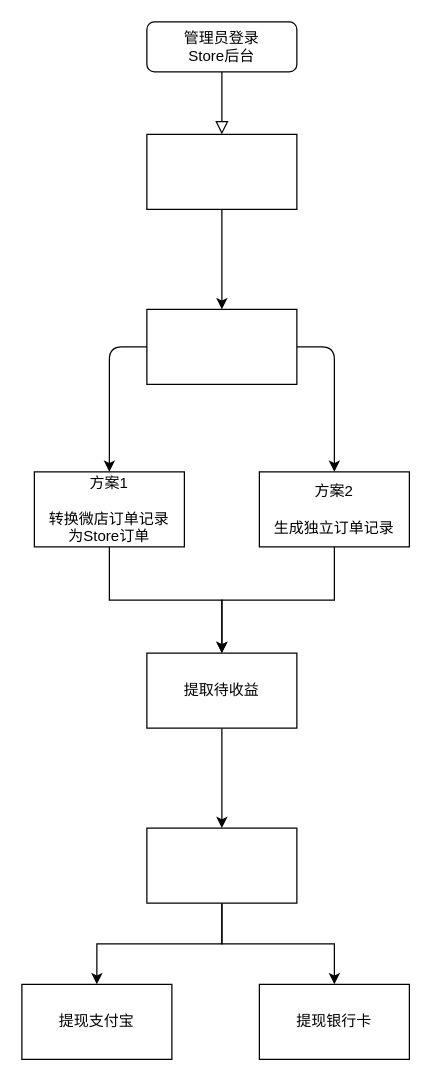
Image size: 431x1081. Some labels were removed from this diagram. The box of each missing label's shape, as (x1, y1, x2, y2) in pixels:
COCOS微店 订单导入: (146, 133, 297, 209)
存入余额: (146, 827, 297, 903)
选择微店 CSV订单文件: (146, 308, 297, 384)
